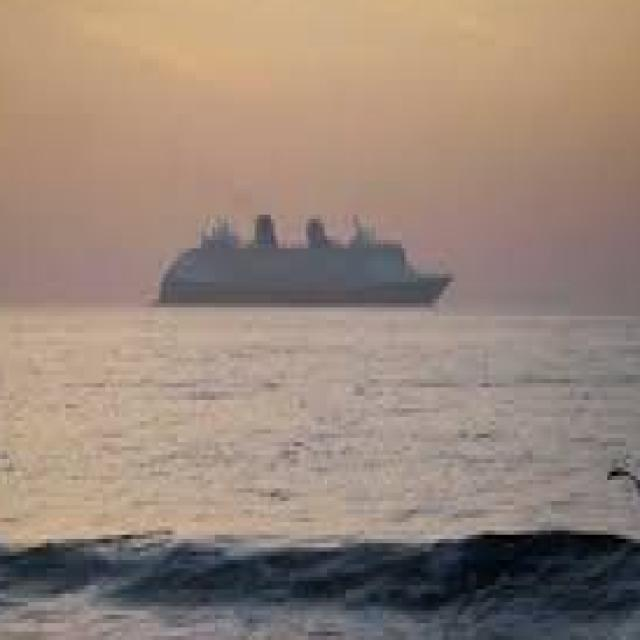cargoship: (165, 173, 447, 291)
